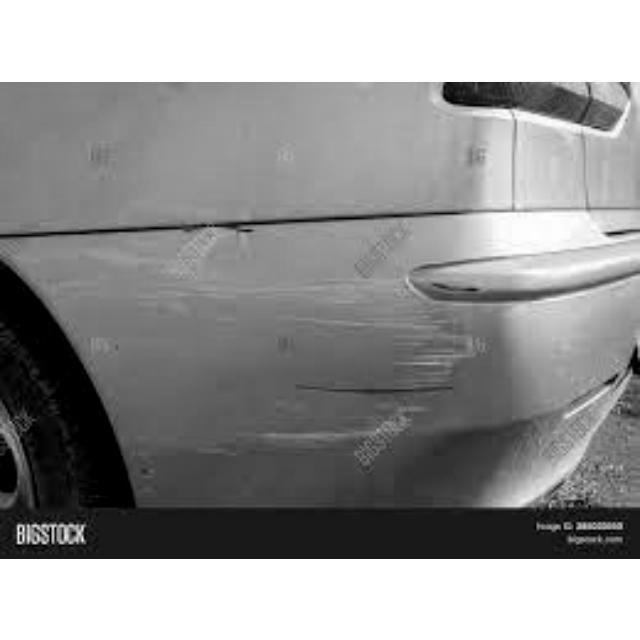rear-bumper-dent: (1, 210, 636, 515)
